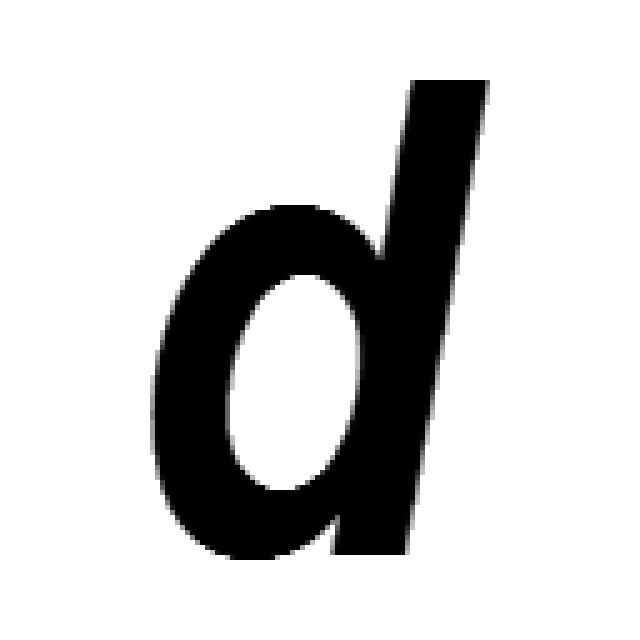D: (145, 70, 490, 560)
